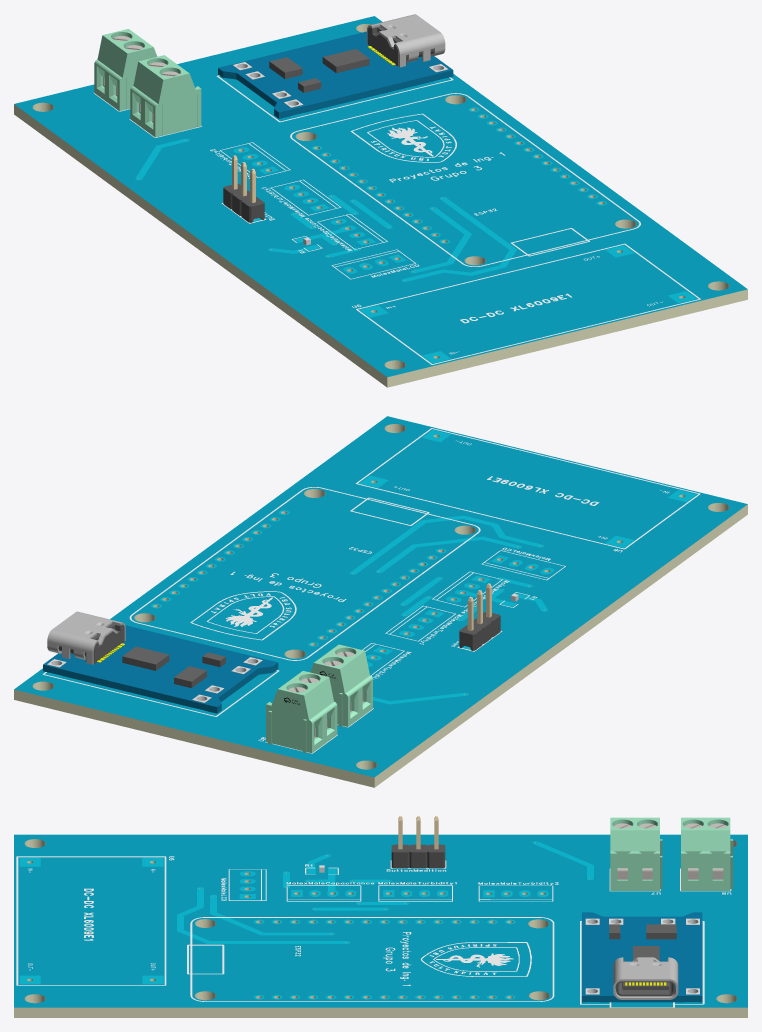
Rendered from 3D_PCB1_2025-10-29 (1).glb.
3 renders of one model, top to bottom at view 1: azimuth 30°, elevation 25°; view 2: azimuth 150°, elevation 25°; view 3: azimuth 270°, elevation 25°, orthographic.
Visible parts, largest first — view 1: Node13, Node12, Node16, Node7, Node5, Node1, Node9, Node10, Node14, Node2; view 2: Node13, Node12, Node16, Node7, Node5, Node1, Node9, Node10, Node14, Node2, Node3; view 3: Node13, Node12, Node7, Node16, Node5, Node1, Node9, Node10, Node14, Node2, Node6, Node17 (+1 smaller).
Part boxes in pixels (<box>): Node13: <box>14,16,747,377</box>; Node12: <box>14,24,747,387</box>; Node16: <box>218,31,453,118</box>; Node7: <box>94,29,201,137</box>; Node5: <box>135,78,696,363</box>; Node1: <box>94,93,700,364</box>; Node9: <box>269,26,433,92</box>; Node10: <box>367,14,445,67</box>; Node14: <box>216,75,505,215</box>; Node2: <box>223,184,264,222</box>; Node13: <box>14,416,747,777</box>; Node12: <box>14,424,747,787</box>; Node16: <box>43,625,278,713</box>; Node7: <box>266,644,372,753</box>; Node5: <box>49,430,696,711</box>; Node1: <box>129,428,700,753</box>; Node9: <box>58,623,225,688</box>; Node10: <box>47,611,125,664</box>; Node14: <box>43,547,371,716</box>; Node2: <box>459,612,500,650</box>; Node3: <box>467,583,491,647</box>; Node13: <box>14,834,747,1007</box>; Node12: <box>14,839,747,1017</box>; Node7: <box>610,817,732,890</box>; Node16: <box>582,912,702,1002</box>; Node5: <box>19,841,698,1002</box>; Node1: <box>16,856,731,1001</box>; Node9: <box>609,924,676,996</box>; Node10: <box>613,957,678,999</box>; Node14: <box>295,921,704,1007</box>; Node2: <box>391,844,445,868</box>; Node6: <box>614,823,726,879</box>; Node17: <box>585,918,699,994</box>.
Size of the model in its own units: 58.32 by 12.1 by 104.
